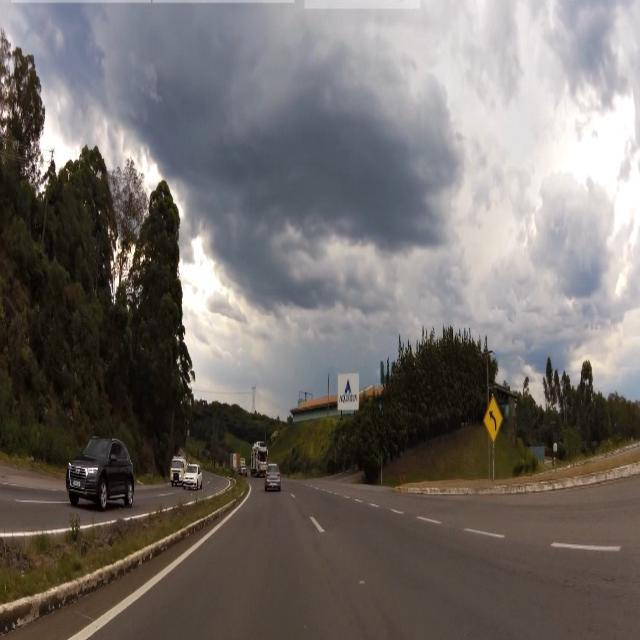A-2a: (483, 393, 502, 448)
